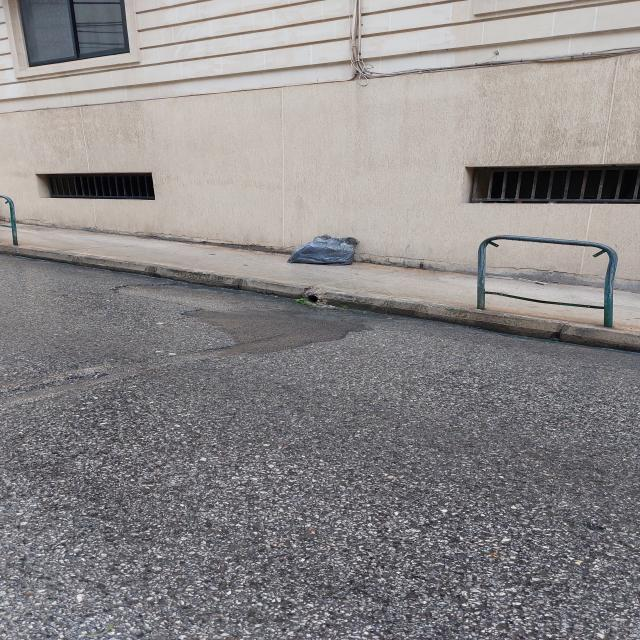Mixed Waste -Black Bag-: (286, 233, 362, 271)
